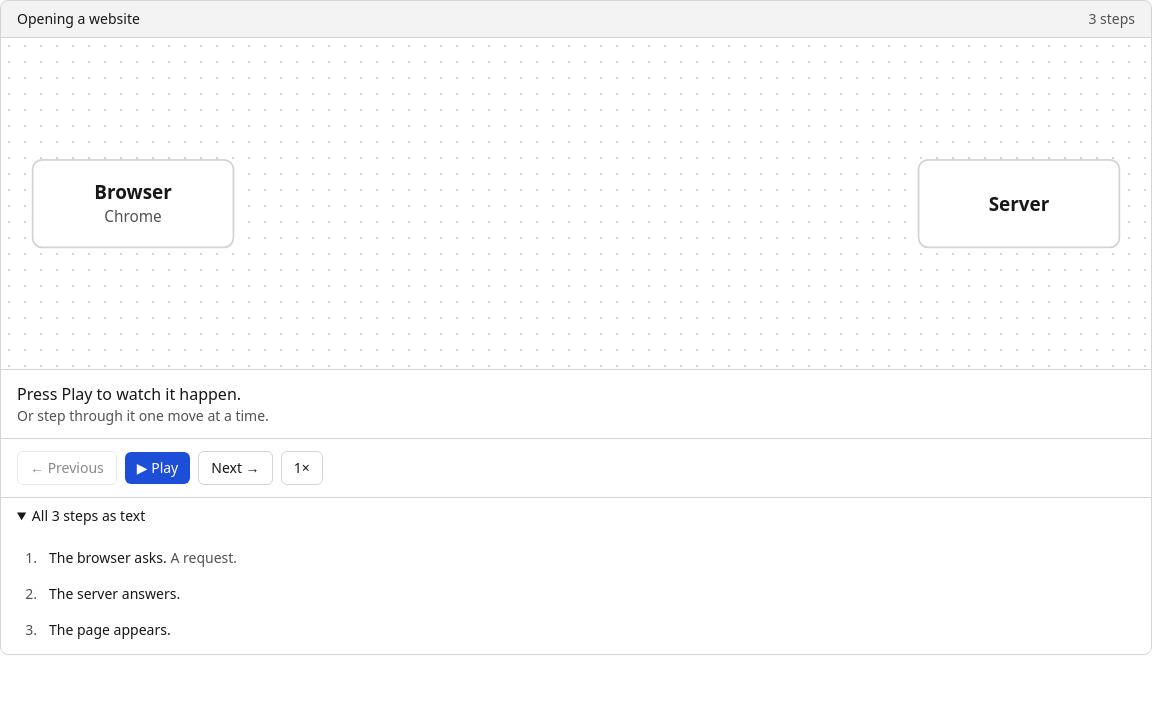
ScenePlayer › plays every move in turn and stops at the end
This screenshot has width=1152, height=720.
Click the button "▶ Play": x=158, y=468 [125,452,190,484]
Wait 4800 ms
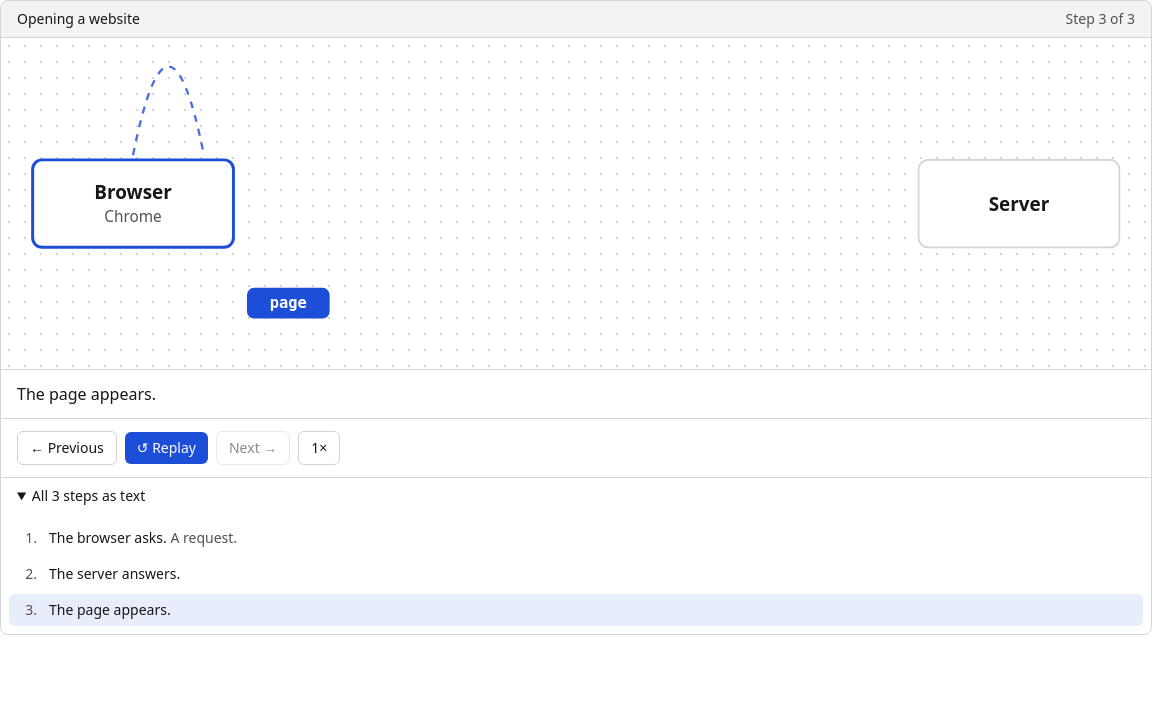
Check: the text "Step 3 of 3" is shown, box [1066,9,1135,29]
Check: the button "↺ Replay" is shown, box [125,432,208,464]
